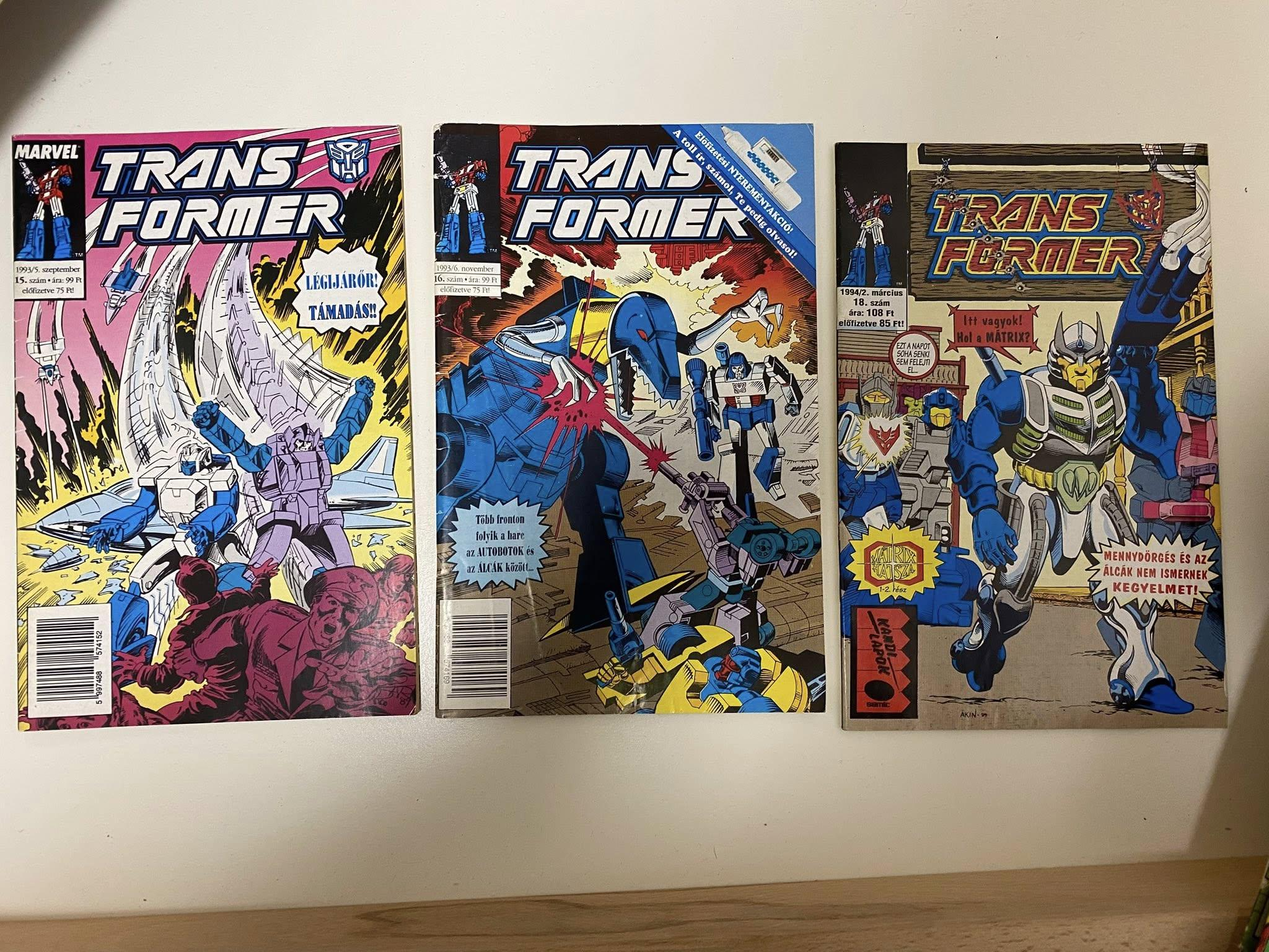comic: (3, 126, 419, 730), (829, 134, 1226, 735), (435, 123, 824, 714)
